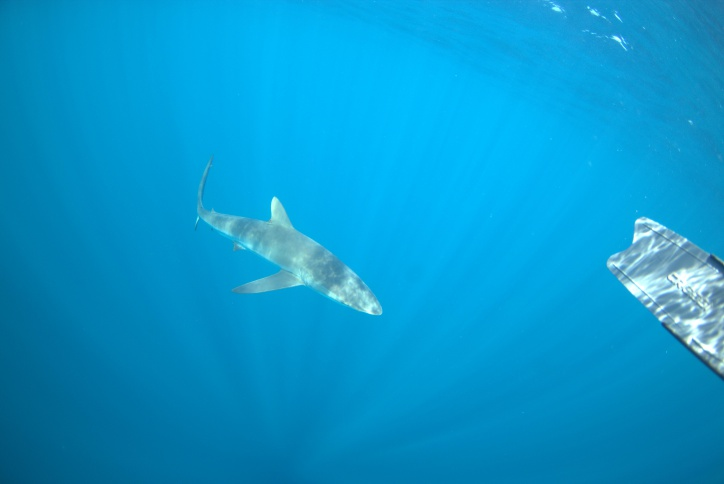Sedoso: (169, 141, 398, 330)
